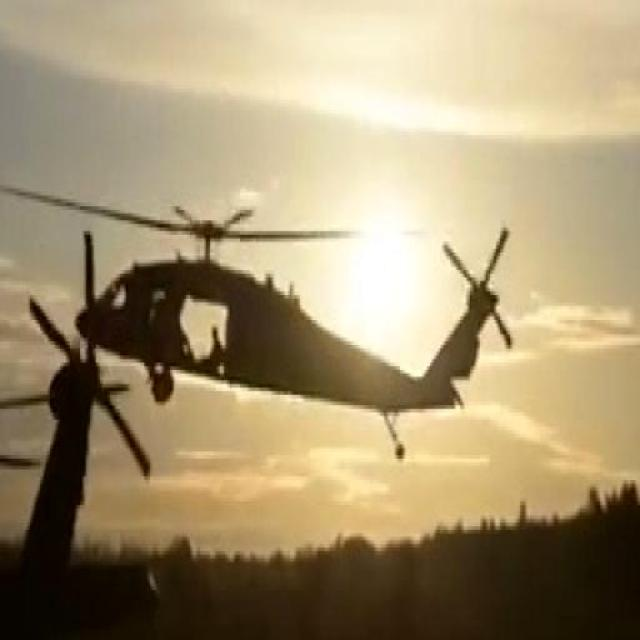drone: (0, 172, 518, 471), (0, 214, 194, 640)
